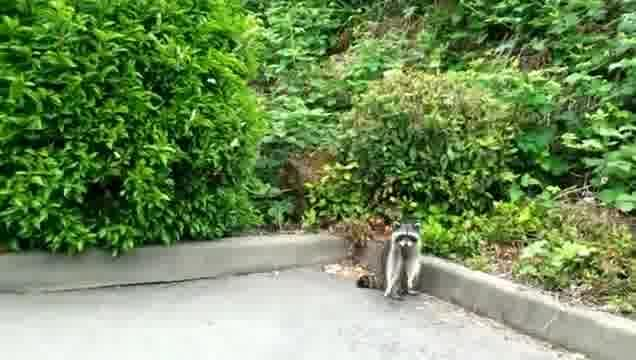raccoon: (356, 222, 426, 303)
